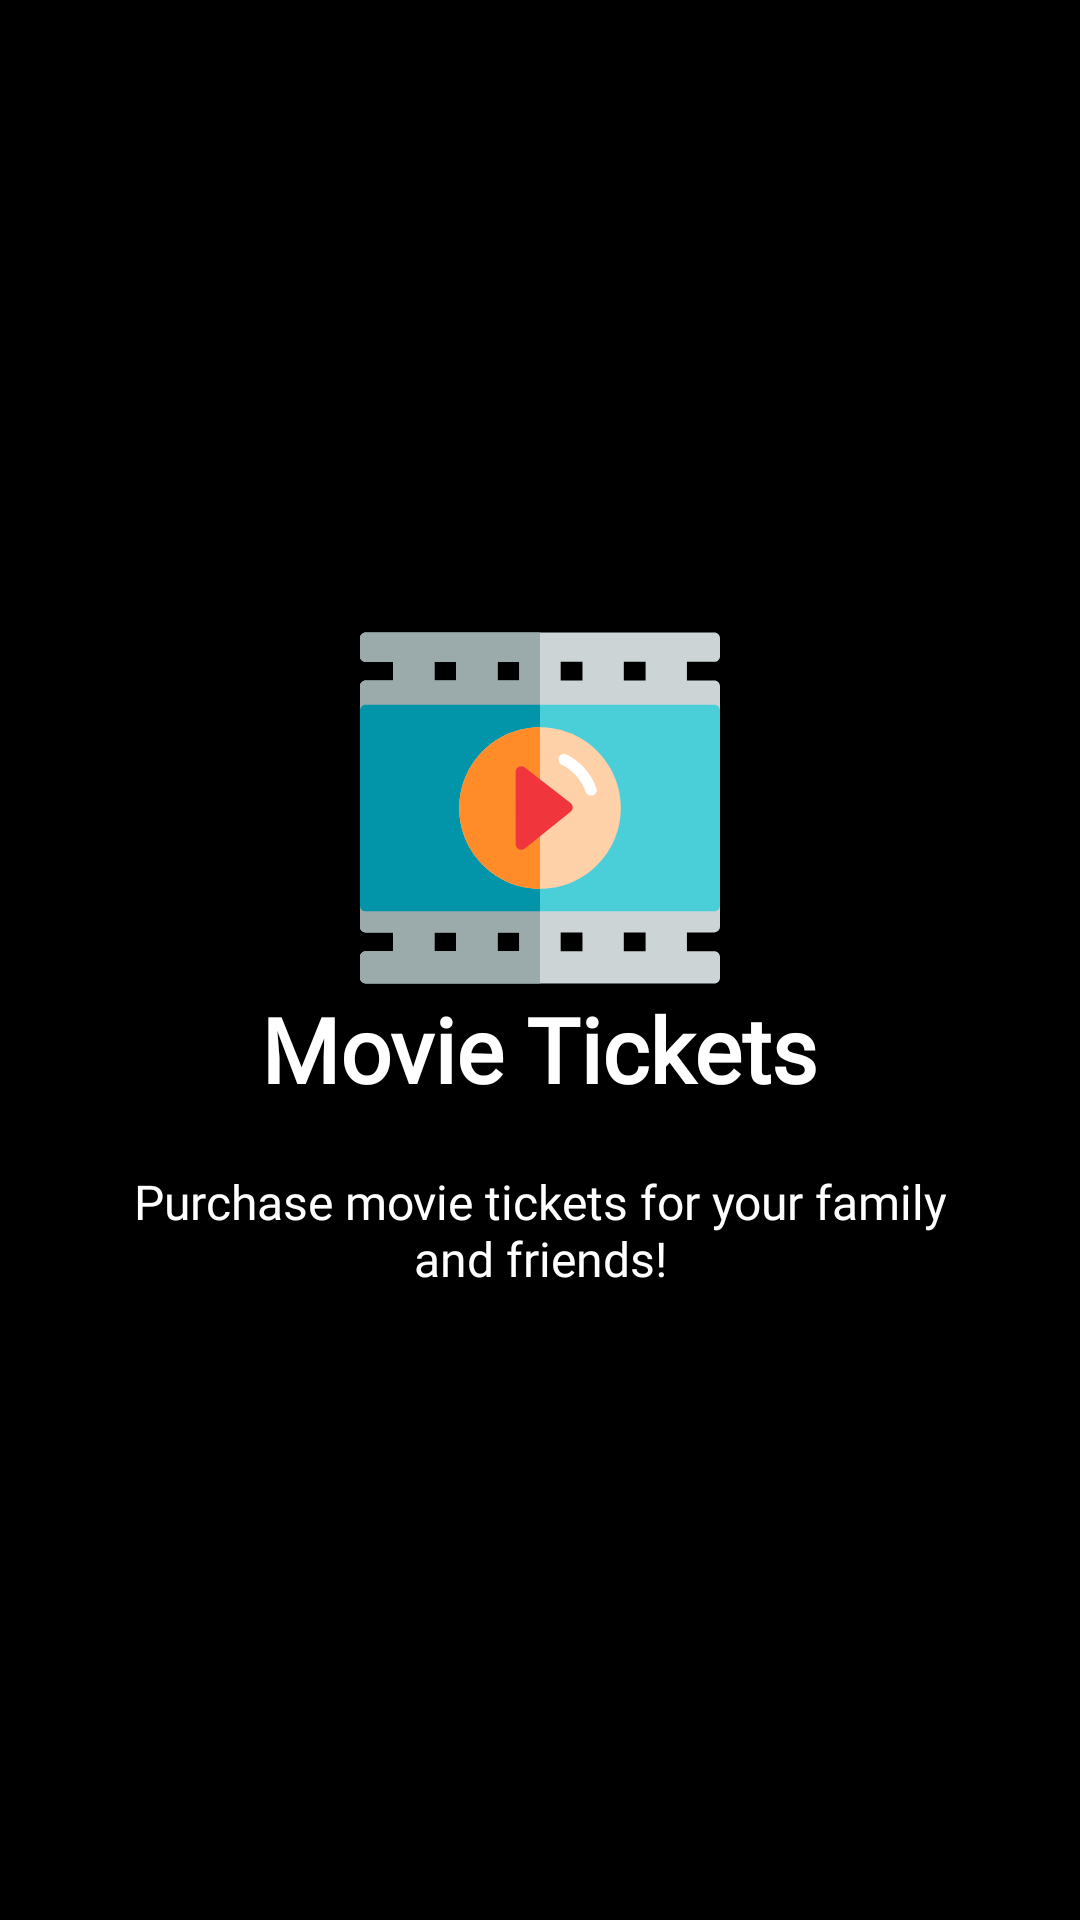

Where to tap for icons on this 1080x1920 app screen, as (x,y):
video player: (540,808)
